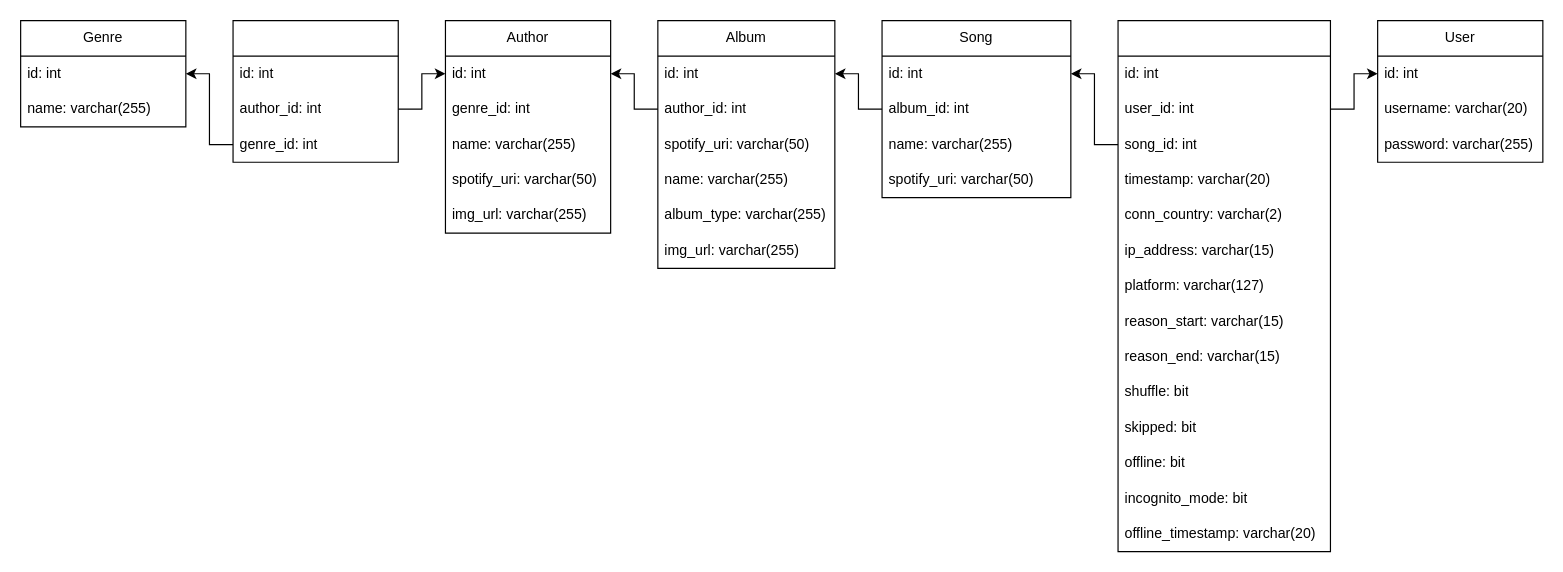
The diagram is 1563 pixels wide and 572 high, and some of its shapes have lost their labels. Each missing label, with the box of its shape:
AuthorGenre: (232, 19, 398, 162)
SongListen: (1117, 19, 1330, 552)
